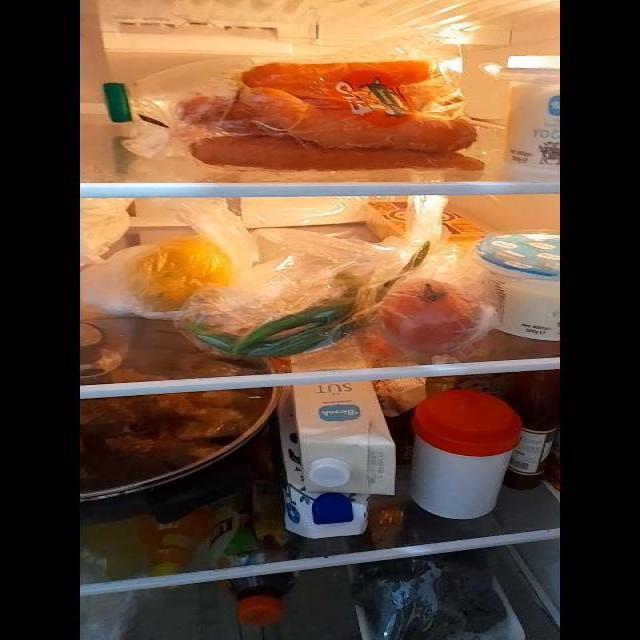Yogur: (476, 234, 561, 340)
Zanahoria: (191, 61, 475, 171)
